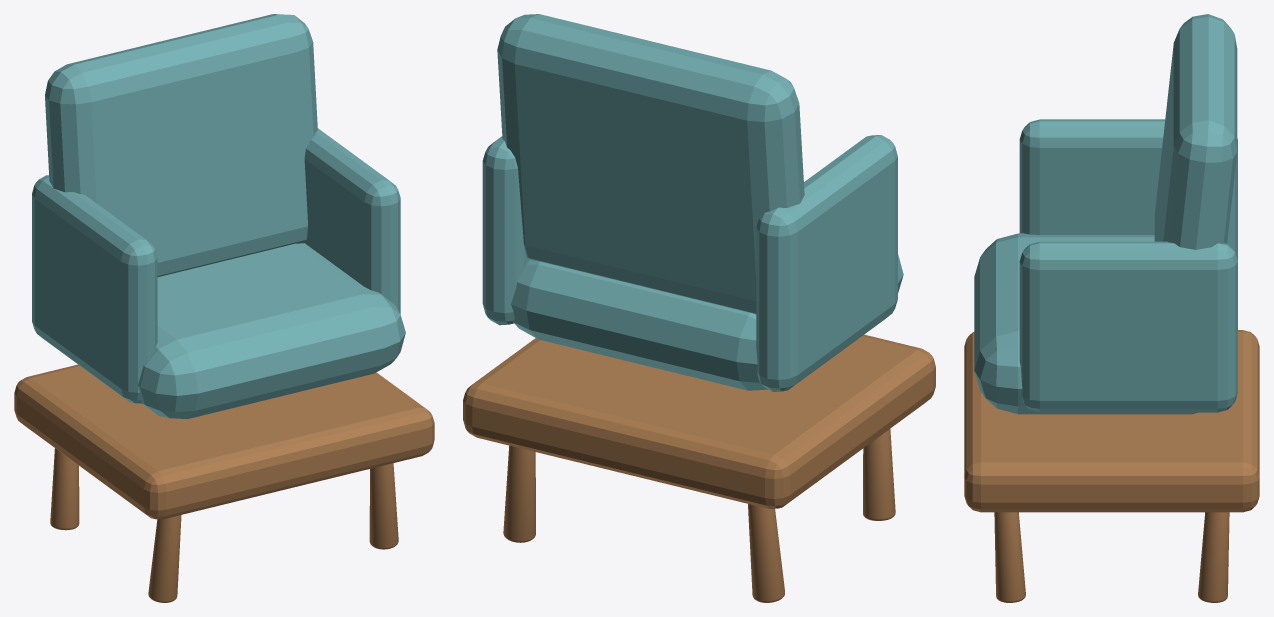
Rendered from ibiza-able.glb.
3 views of the same model, side by side, from view 1: azimuth 30°, elevation 25°; view 2: azimuth 150°, elevation 25°; view 3: azimuth 270°, elevation 25° (orthographic). The views are drawn at different scales.
Parts seen in each view (by area): view 1: Ibiza teal back, Ibiza teak platform, Ibiza teal seat, Ibiza left side, Ibiza right side, Ibiza teak leg 1, Ibiza teak leg 2, Ibiza teak leg 3; view 2: Ibiza teal back, Ibiza teak platform, Ibiza left side, Ibiza teal seat, Ibiza right side, Ibiza teak leg 3, Ibiza teak leg 4, Ibiza teak leg 1; view 3: Ibiza right side, Ibiza teak platform, Ibiza left side, Ibiza teal back, Ibiza teal seat, Ibiza teak leg 2, Ibiza teak leg 4.
Boxes of the visible parts, x1,y1,x2,y2 form: Ibiza teal back: [45, 14, 317, 276]; Ibiza teak platform: [14, 364, 434, 519]; Ibiza teal seat: [138, 243, 405, 419]; Ibiza left side: [32, 175, 157, 403]; Ibiza right side: [304, 128, 400, 314]; Ibiza teak leg 1: [148, 515, 181, 602]; Ibiza teak leg 2: [369, 463, 398, 549]; Ibiza teak leg 3: [50, 448, 79, 530]; Ibiza teal back: [497, 14, 804, 314]; Ibiza teak platform: [463, 334, 935, 508]; Ibiza left side: [756, 135, 897, 391]; Ibiza teal seat: [511, 254, 903, 390]; Ibiza right side: [482, 136, 529, 325]; Ibiza teak leg 3: [748, 504, 784, 602]; Ibiza teak leg 4: [503, 445, 535, 542]; Ibiza teak leg 1: [863, 429, 895, 520]; Ibiza right side: [1019, 241, 1237, 412]; Ibiza teak platform: [964, 330, 1259, 512]; Ibiza left side: [1019, 119, 1237, 260]; Ibiza teal back: [1154, 14, 1237, 249]; Ibiza teal seat: [974, 233, 1197, 414]; Ibiza teak leg 2: [994, 512, 1025, 602]; Ibiza teak leg 4: [1198, 512, 1229, 602].
Size of the model in its own units: 1.02 by 1.56 by 0.88.
